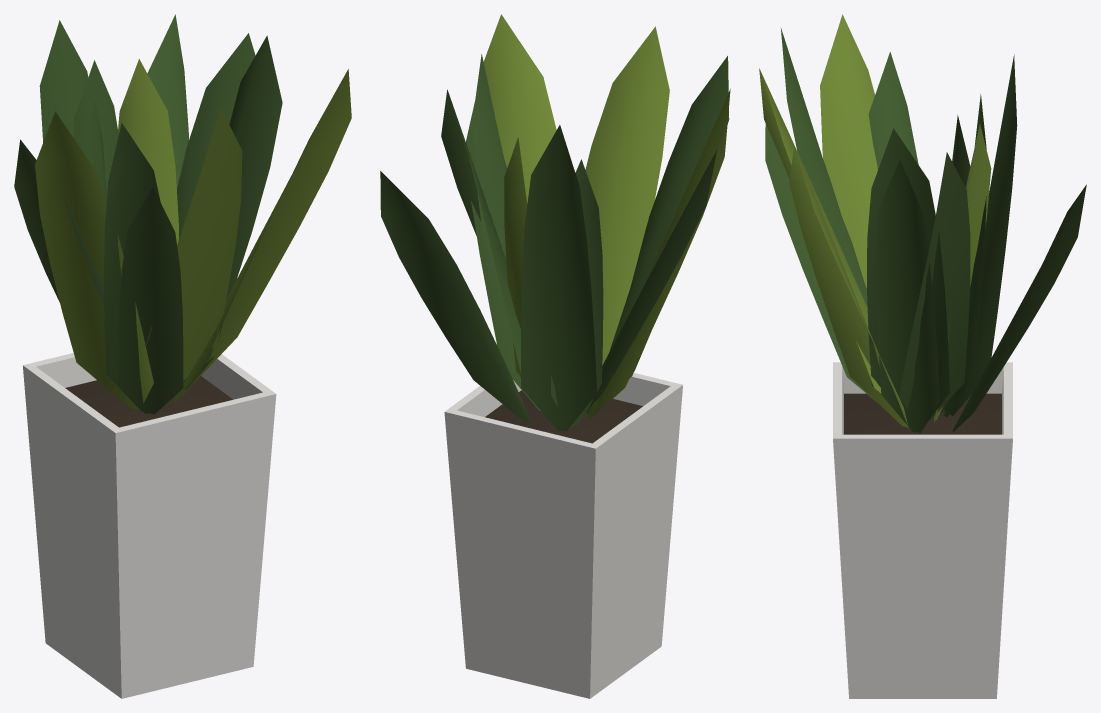
File: greenery.desk-plant-snake.glb
3 renders of one model, left to right at view 1: azimuth 30°, elevation 25°; view 2: azimuth 150°, elevation 25°; view 3: azimuth 270°, elevation 25°, orthographic. The views are drawn at different scales.
Visible parts, largest first — view 1: greenery.desk-plant-snake.001; view 2: greenery.desk-plant-snake.001; view 3: greenery.desk-plant-snake.001.
Boxes of the visible parts, x1,y1,x2,y2 form: greenery.desk-plant-snake.001: (14,14,351,698); greenery.desk-plant-snake.001: (380,14,730,698); greenery.desk-plant-snake.001: (759,14,1086,698).
Bounding box in the file's own units: 0.21 × 0.42 × 0.21.
